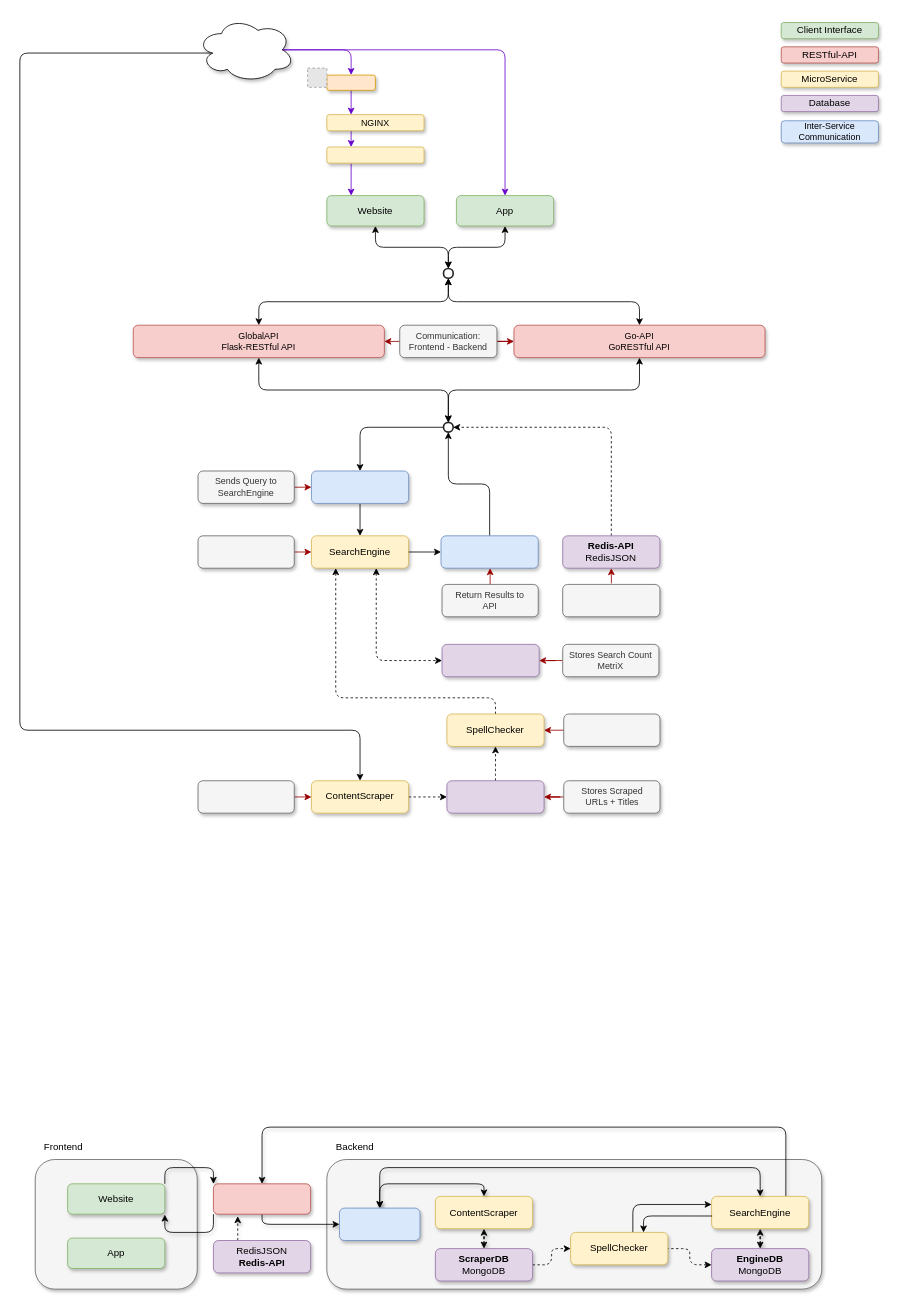
This 897x1309 diagram has some shape labels left out. Grey dashed boxes stand in for pictures. The centre of each missing label's shape, as x and y in pixels:
"CDN" belongs at [351,83].
"Corrects Spelling Of Scraped Data" belongs at [612,731].
"GoAPI GlobalAPI" belongs at [262,1200].
"Gunicorn" belongs at [376,156].
"Indexes Data & Returns Results" belongs at [246,553].
"Internet" belongs at [246,50].
"MongoDB ContentScraper-C1" belongs at [496,798].
"MongoDB SearchEngine-C1" belongs at [491,661].
"Redis" belongs at [380,1225].
"Redis-API DB 0 - StreamA" belongs at [360,488].
"Redis-API DB 1 - Set/Get" belongs at [490,553].
"RedisJSON Database" belongs at [612,601].
"Scrape URLs + Data" belongs at [246,798].
